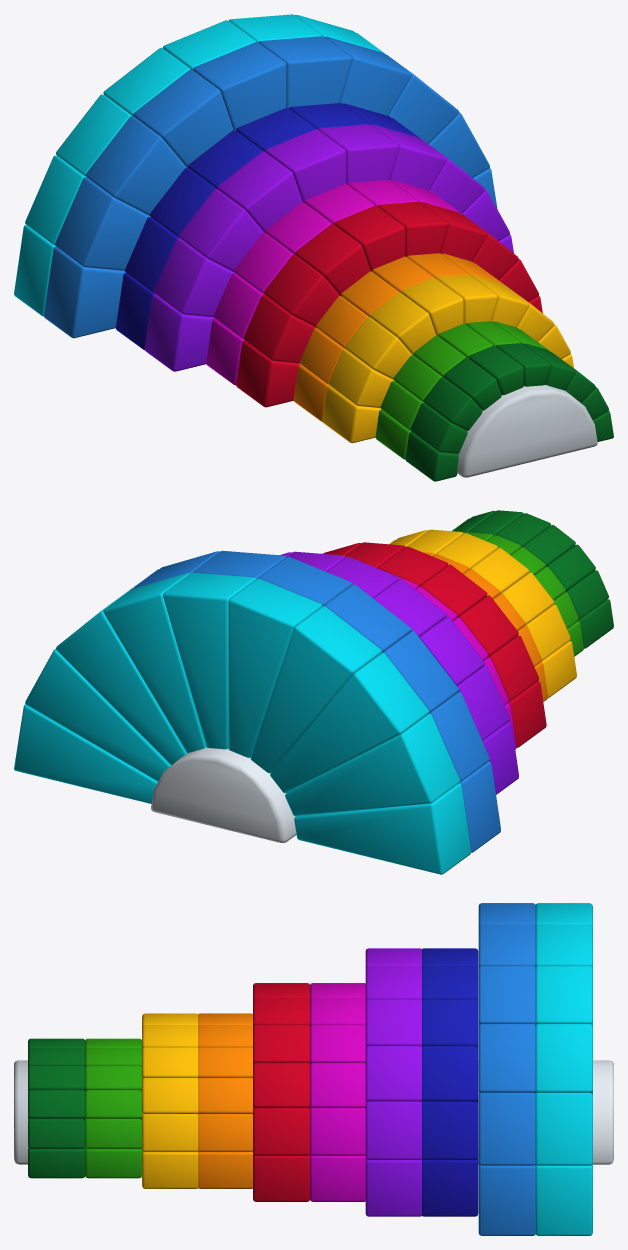
The model's file is collectible_2.fbx.
The picture shows the model from 3 angles, top to bottom: view 1: azimuth 30°, elevation 25°; view 2: azimuth 150°, elevation 25°; view 3: azimuth 270°, elevation 25°; orthographic projection. The views are drawn at different scales.
Parts seen in each view (by area): view 1: Cylinder.1025, Cylinder.1074, Cylinder.1073, Cylinder.1075, Cylinder.1072, Cylinder.1076, Cylinder.1077, Cylinder.1064, Cylinder.1063, Cylinder.1065, Cylinder.1062, Cylinder.1078 (+63 smaller); view 2: Cylinder.043, Cylinder.042, Cylinder.044, Cylinder.1025, Cylinder.041, Cylinder.045, Cylinder.046, Cylinder.047, Cylinder.048, Cylinder.049, Cylinder.050, Cylinder.1074 (+32 smaller); view 3: Cylinder.1080, Cylinder.049, Cylinder.050, Cylinder.1081, Cylinder.048, Cylinder.1079, Cylinder.1025, Cylinder.047, Cylinder.1078, Cylinder.1070, Cylinder.039, Cylinder.040 (+49 smaller).
Boxes of the visible parts, x1,y1,x2,y2 form: Cylinder.1025: (457, 385, 597, 477); Cylinder.1074: (85, 116, 186, 215); Cylinder.1073: (55, 177, 150, 270); Cylinder.1075: (133, 69, 233, 168); Cylinder.1072: (44, 247, 125, 338); Cylinder.1076: (193, 42, 286, 130); Cylinder.1077: (258, 36, 351, 107); Cylinder.1064: (178, 189, 264, 272); Cylinder.1063: (154, 238, 234, 317); Cylinder.1065: (217, 151, 302, 233); Cylinder.1062: (145, 294, 214, 371); Cylinder.1078: (325, 36, 411, 115); Cylinder.043: (270, 652, 429, 793); Cylinder.042: (285, 714, 460, 816); Cylinder.044: (250, 606, 381, 773); Cylinder.1025: (151, 747, 296, 842); Cylinder.041: (294, 783, 471, 874); Cylinder.045: (228, 578, 322, 757); Cylinder.046: (163, 572, 256, 749); Cylinder.047: (103, 573, 206, 753); Cylinder.048: (56, 591, 186, 765); Cylinder.049: (25, 649, 170, 781); Cylinder.050: (14, 704, 157, 803); Cylinder.1074: (383, 630, 459, 712); Cylinder.1080: (478, 1092, 535, 1165); Cylinder.049: (535, 1092, 592, 1165); Cylinder.050: (535, 1163, 592, 1235); Cylinder.1081: (478, 1163, 535, 1235); Cylinder.048: (535, 1024, 592, 1095); Cylinder.1079: (478, 1024, 535, 1094); Cylinder.1025: (14, 1060, 613, 1164); Cylinder.047: (535, 966, 592, 1026); Cylinder.1078: (478, 966, 535, 1026); Cylinder.1070: (365, 1101, 421, 1159); Cylinder.039: (422, 1101, 478, 1159); Cylinder.040: (422, 1158, 478, 1216).
Bounding box in the file's own units: 244 × 122 × 310.
